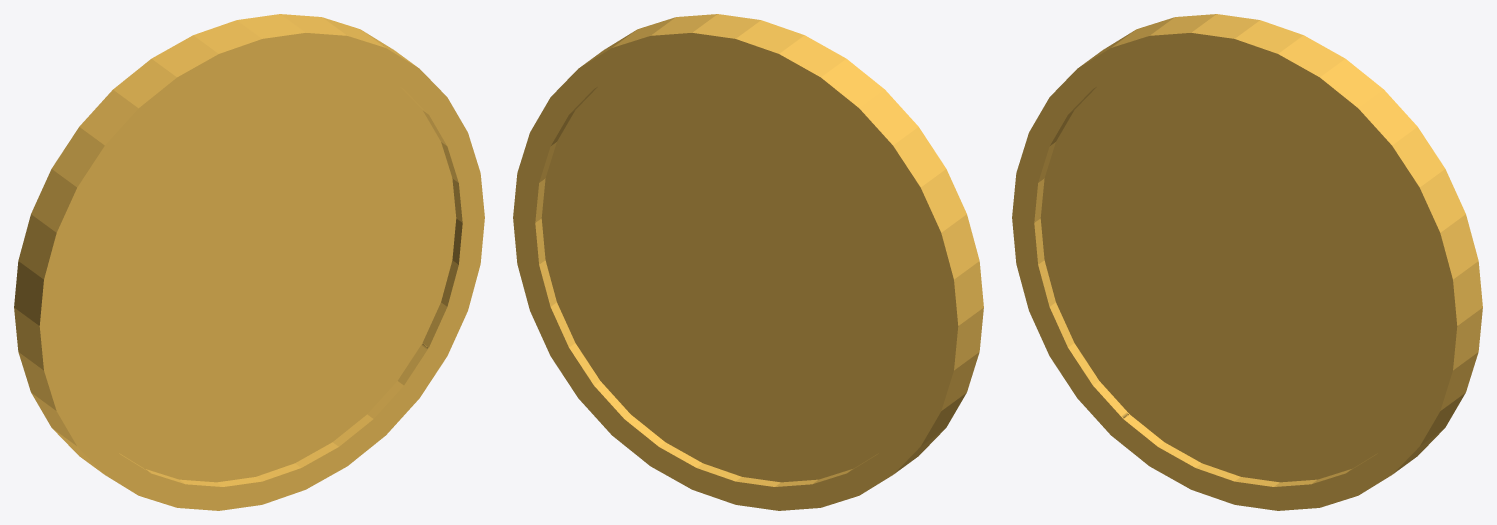
Rendered from coin.fbx.
The picture shows the model from 3 angles, left to right: view 1: azimuth 30°, elevation 25°; view 2: azimuth 150°, elevation 25°; view 3: azimuth 330°, elevation 25°; orthographic projection.
Visible parts, largest first — view 1: Coin; view 2: Coin; view 3: Coin.
Boxes of the visible parts, <box> form: Coin: <box>14,14,484,510</box>; Coin: <box>513,14,983,510</box>; Coin: <box>1012,14,1482,510</box>.
Bounding box in the file's own units: 200 × 200 × 20.
